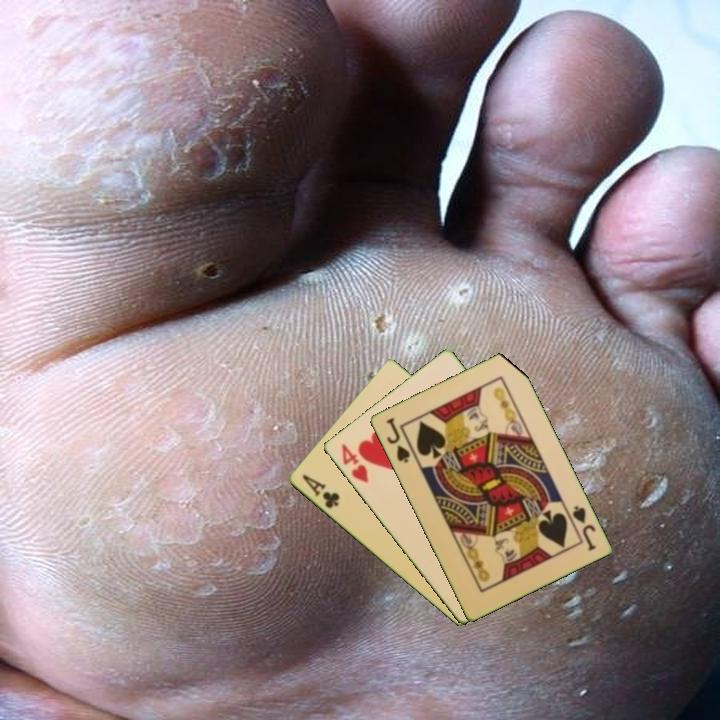4h: (337, 440, 371, 486)
Ac: (298, 471, 342, 511)
Js: (382, 414, 413, 466), (568, 502, 599, 554)
